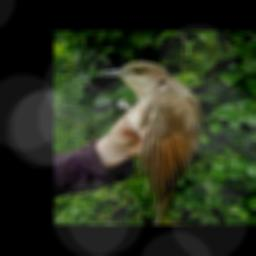Cuckoo: (98, 61, 203, 224)
